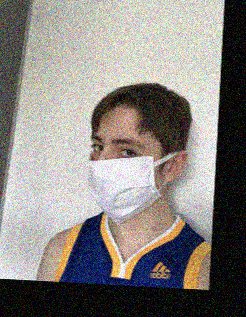with_mask: (85, 130, 161, 226)
